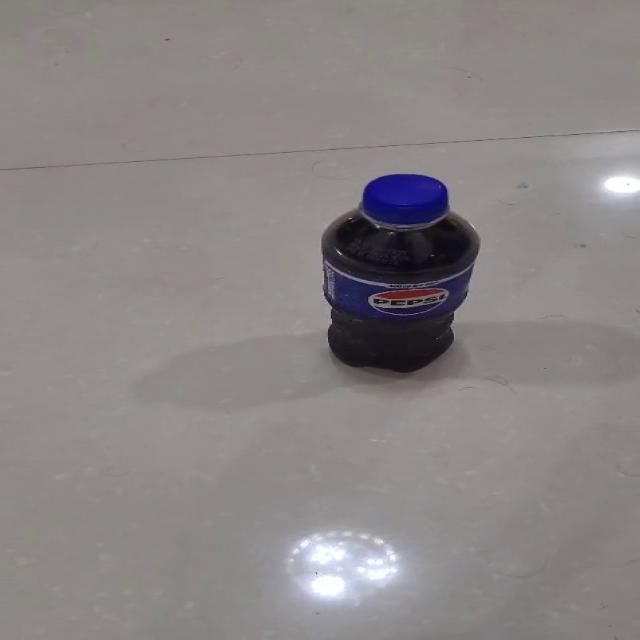plastic: (318, 172, 481, 373)
